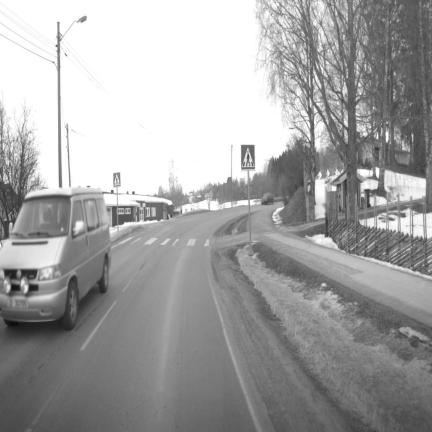Road: (0, 208, 348, 431)
